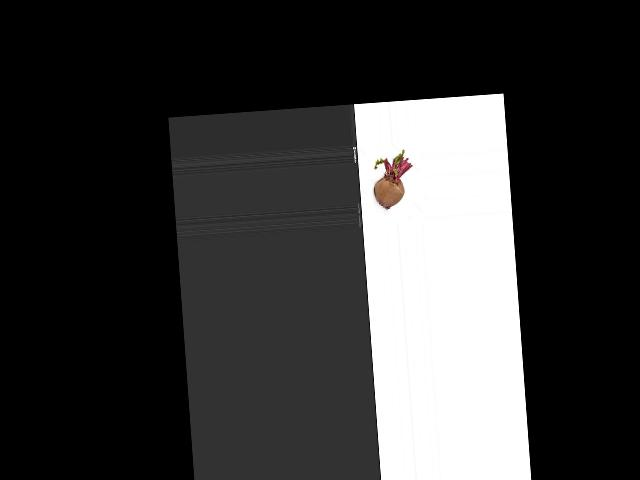beet: (370, 149, 415, 210)
